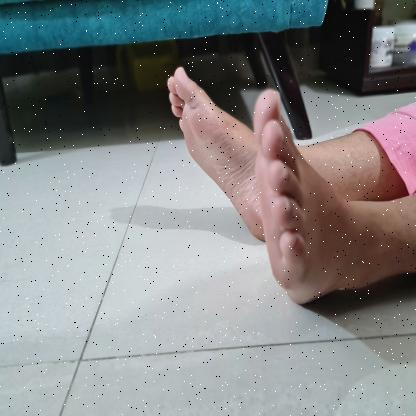leg: (250, 83, 416, 313), (161, 58, 264, 244)
